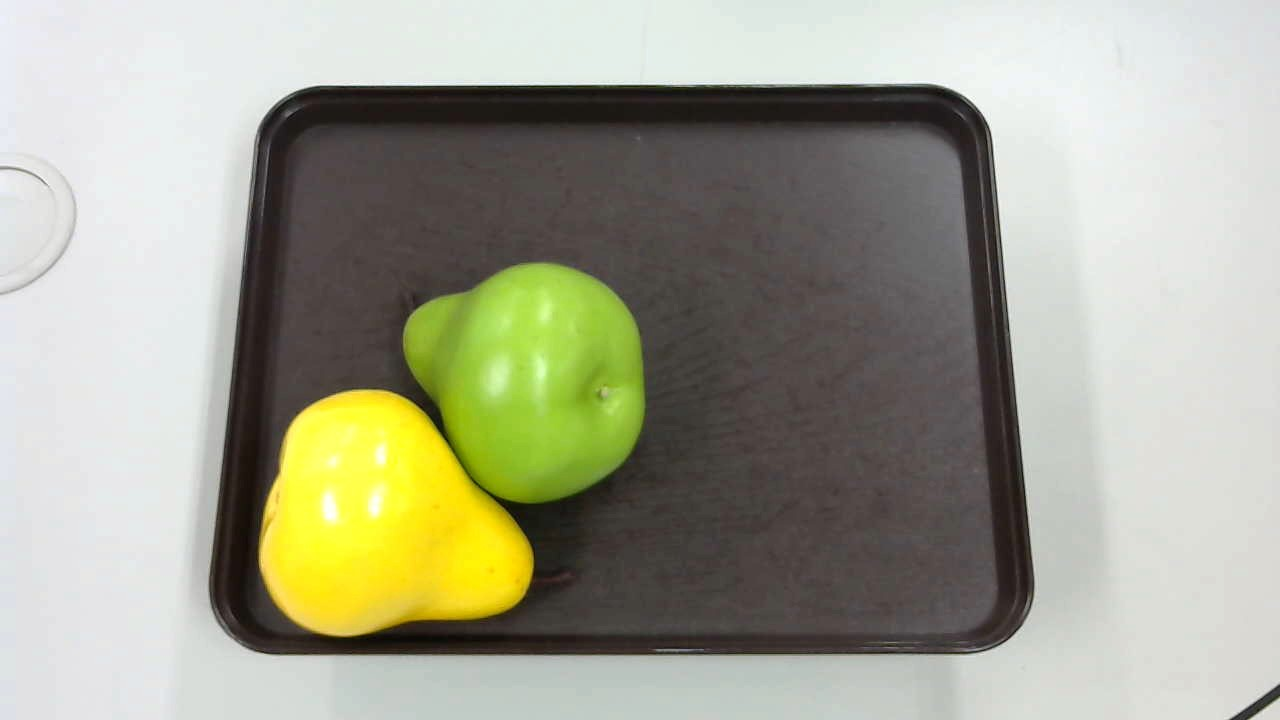green pear: (391, 263, 644, 502)
yellow pear: (258, 390, 577, 641)
